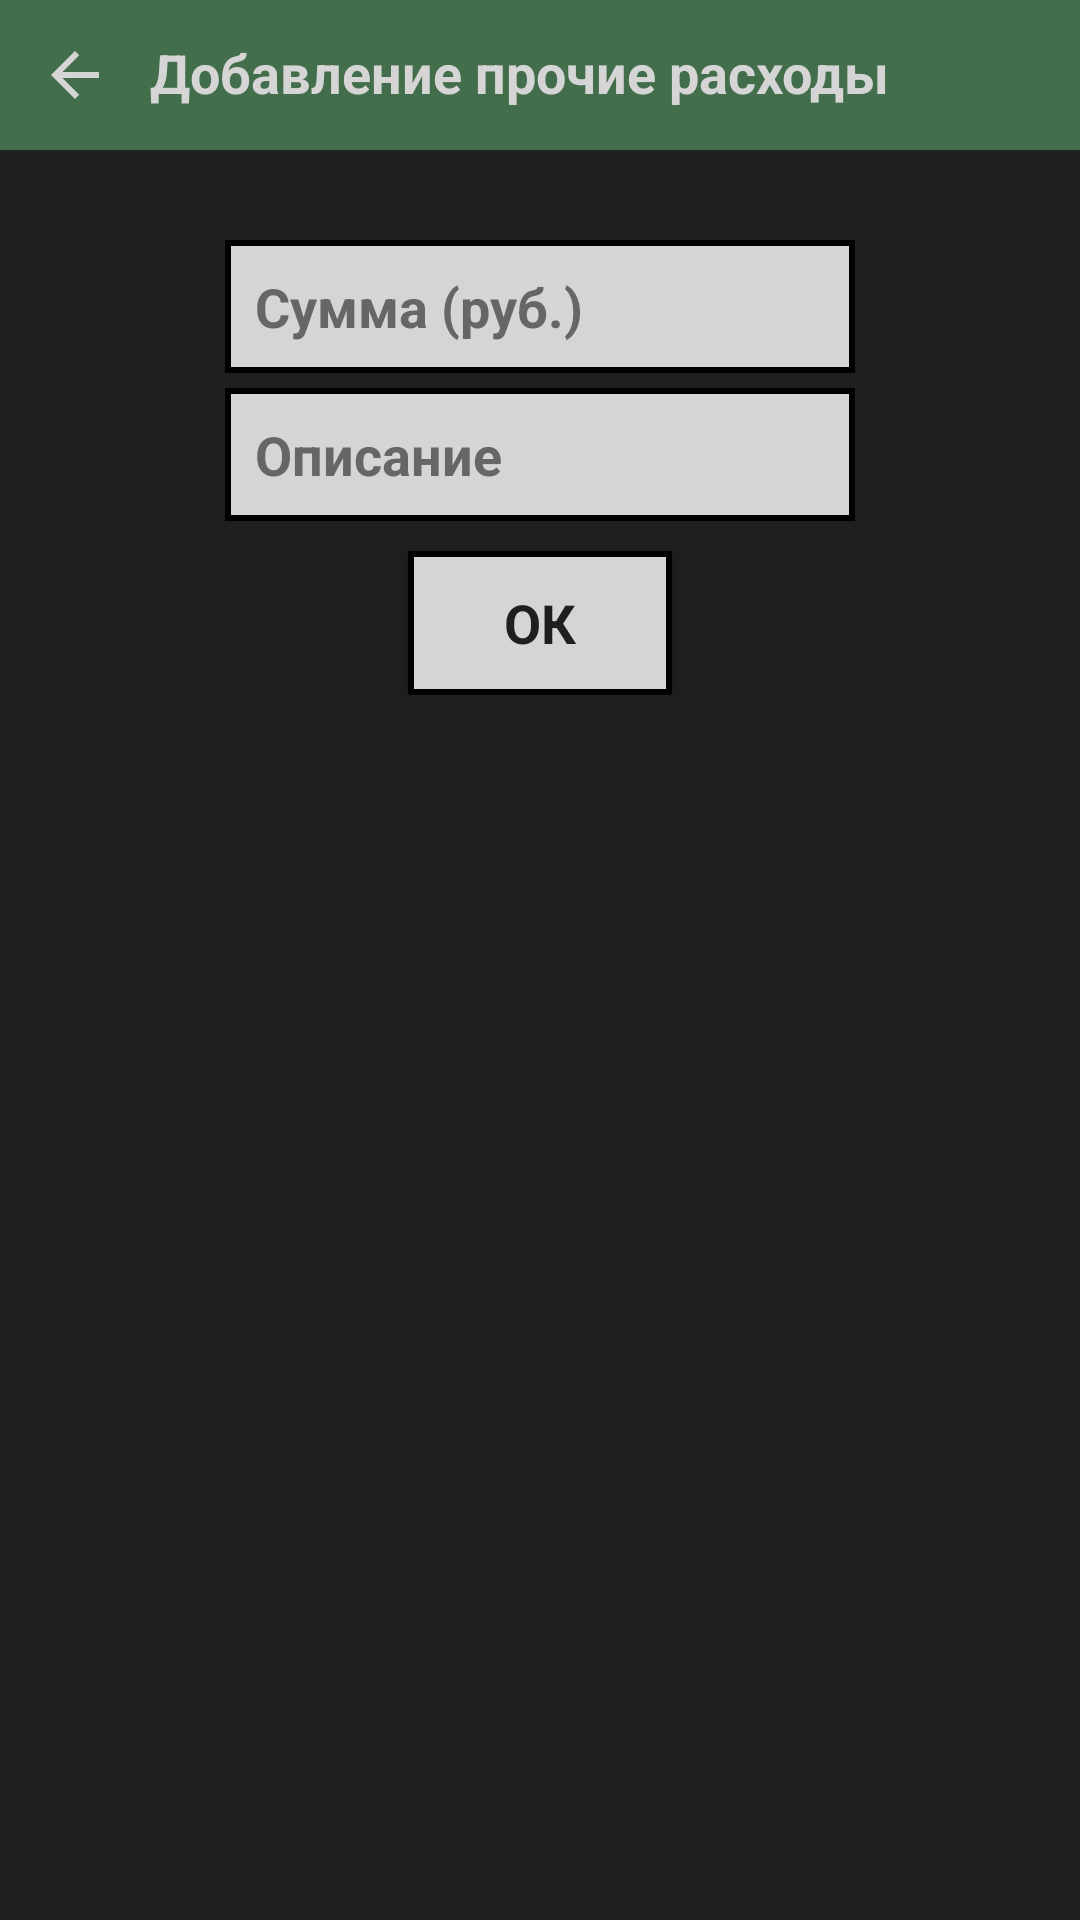

Icon bounding boxes for this 1080 × 1920 phone screenshot, format (x1, y1, x2, y2):
arrow back: (51, 51, 99, 99)
